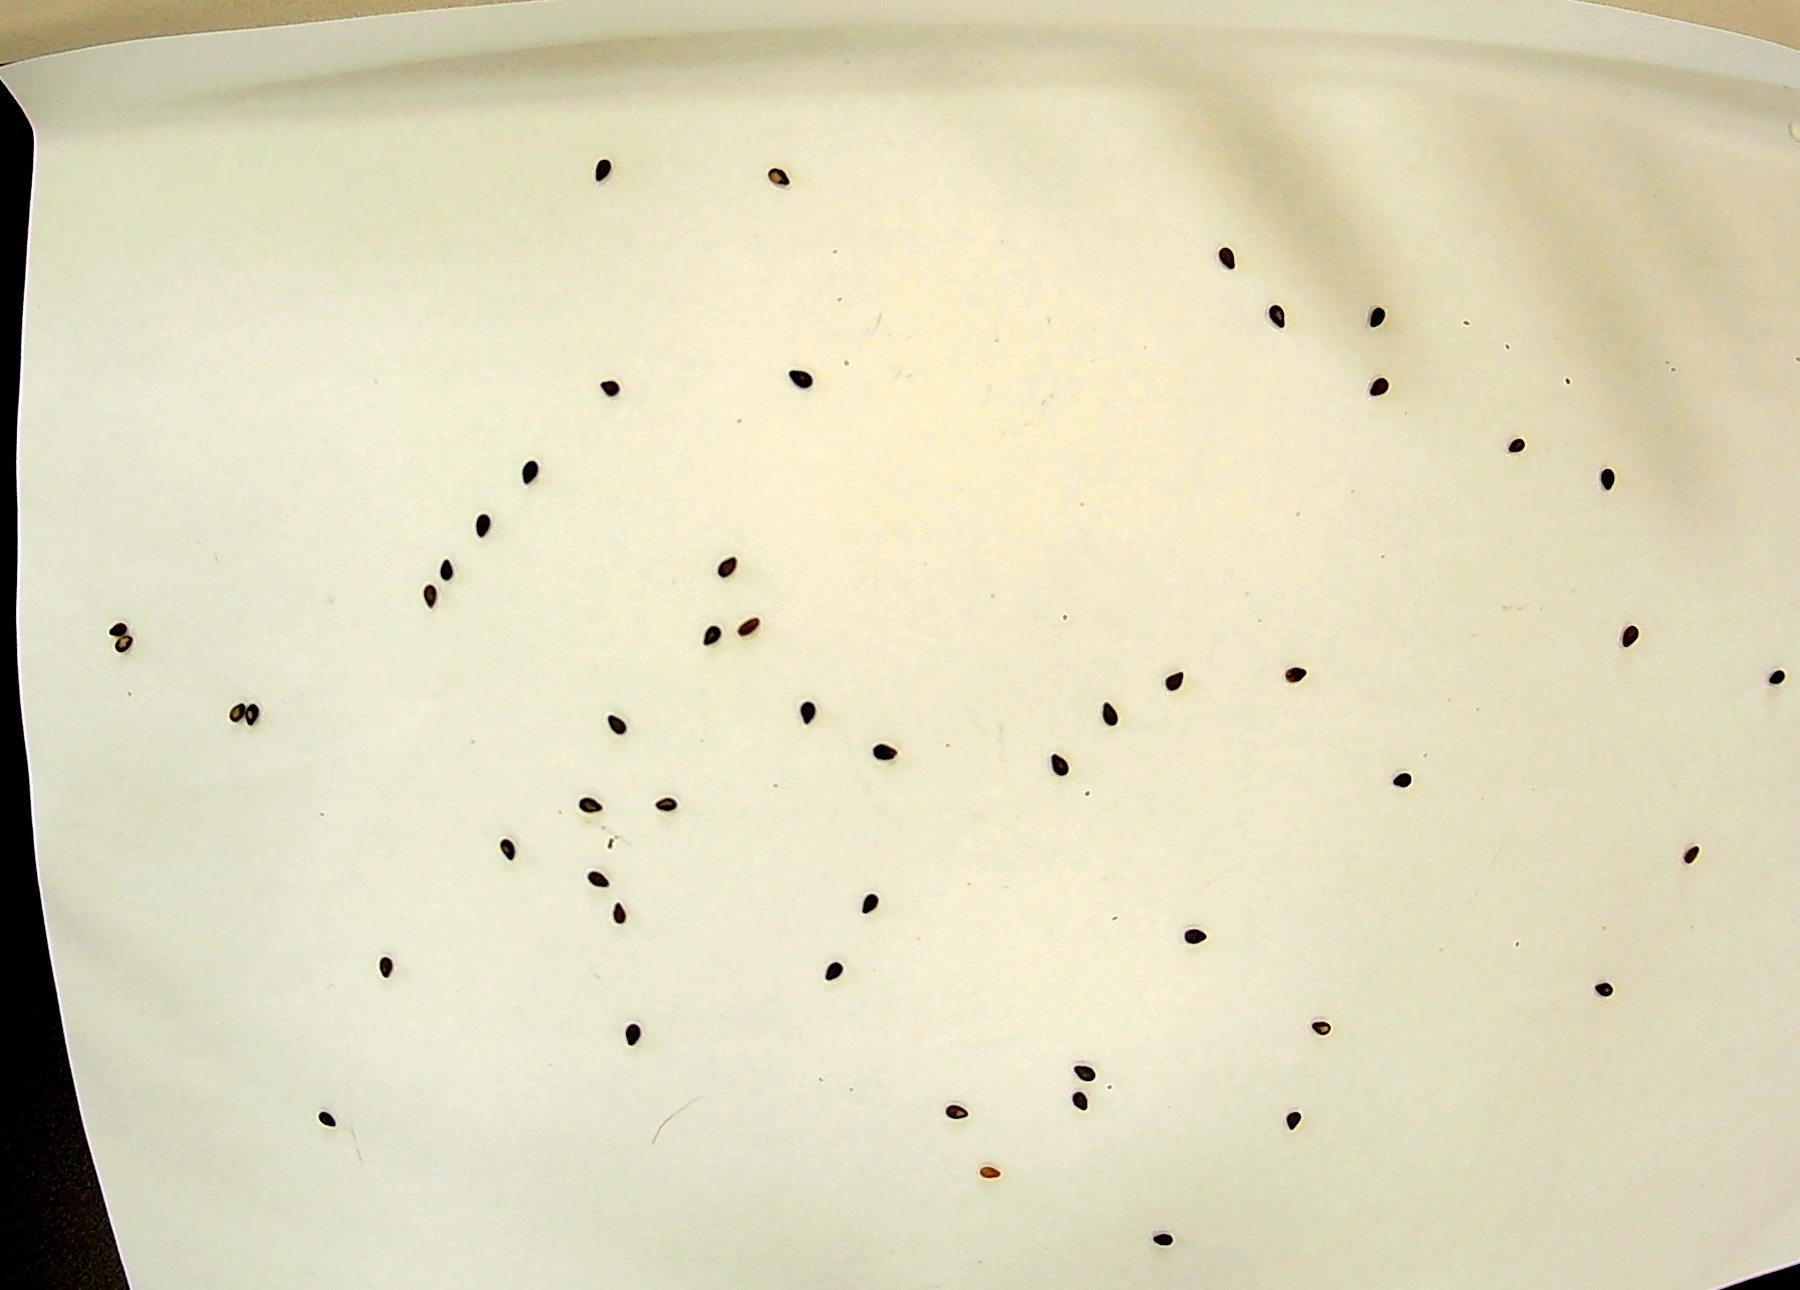sesami: (578, 141, 628, 191), (765, 357, 820, 401), (1067, 1043, 1108, 1092), (1042, 739, 1081, 783), (1260, 296, 1300, 336), (580, 857, 618, 899), (932, 1096, 978, 1129), (467, 500, 500, 546), (851, 885, 889, 924), (647, 785, 682, 826), (306, 1102, 349, 1135), (366, 951, 405, 987), (765, 156, 795, 202), (737, 611, 777, 646), (569, 783, 607, 820), (1141, 1219, 1178, 1256), (868, 739, 907, 773), (100, 638, 142, 670), (604, 898, 640, 933), (1093, 692, 1125, 732), (512, 451, 543, 491), (1365, 366, 1395, 406), (978, 1162, 1019, 1192), (615, 1021, 652, 1054), (1381, 759, 1418, 793), (1358, 300, 1395, 331), (1494, 433, 1538, 459), (691, 624, 730, 653), (1214, 235, 1243, 274), (714, 544, 742, 585), (412, 578, 442, 614), (1178, 919, 1214, 949), (1273, 660, 1314, 687), (813, 956, 851, 986), (1284, 1106, 1314, 1141), (601, 706, 631, 743), (1162, 660, 1192, 697), (1589, 462, 1626, 491), (800, 697, 834, 726), (1066, 1085, 1101, 1113), (1616, 618, 1645, 651), (437, 551, 462, 586), (491, 835, 523, 861), (1760, 658, 1785, 690), (1588, 974, 1621, 997), (218, 699, 248, 723), (1307, 1016, 1340, 1039), (1676, 842, 1702, 868), (93, 620, 135, 637), (246, 699, 271, 727), (600, 378, 622, 406)
